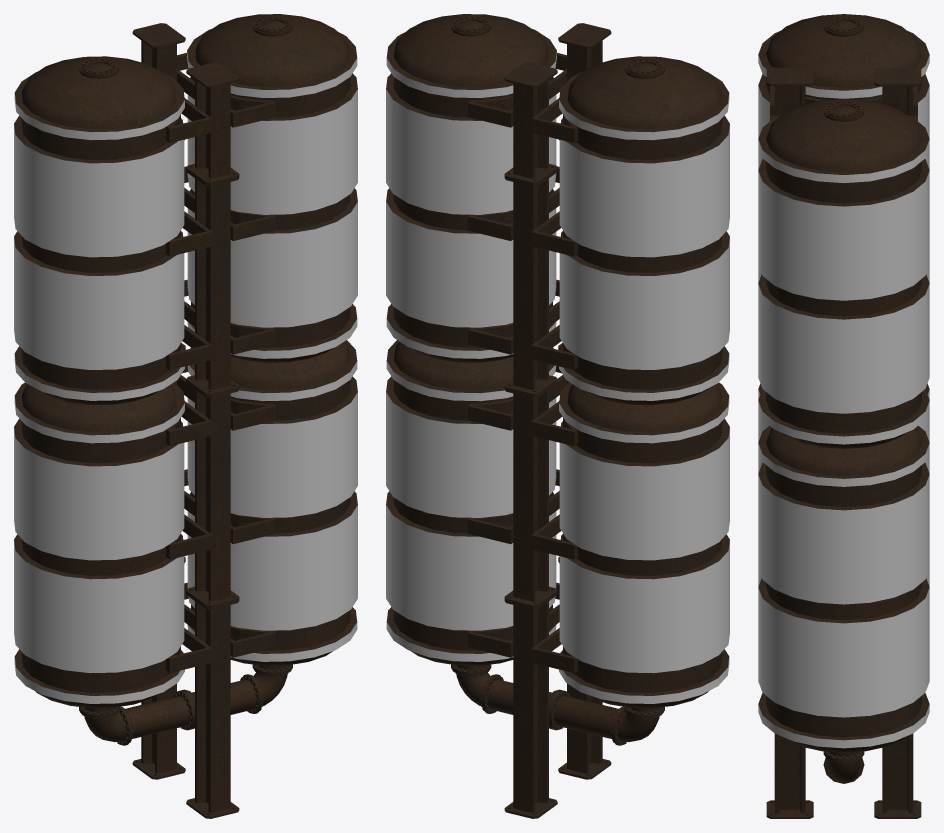
File: boiler_hx_3.fbx
3 renders of one model, left to right at view 1: azimuth 30°, elevation 25°; view 2: azimuth 150°, elevation 25°; view 3: azimuth 270°, elevation 25°, orthographic.
Parts seen in each view (by area): view 1: boiler_hx_3; view 2: boiler_hx_3; view 3: boiler_hx_3.
Boxes of the visible parts, x1,y1,x2,y2 form: boiler_hx_3: (14, 14, 357, 818); boiler_hx_3: (386, 14, 729, 818); boiler_hx_3: (758, 14, 929, 818).
Size of the model in its own units: 4.78 by 2.2 by 10.55.
